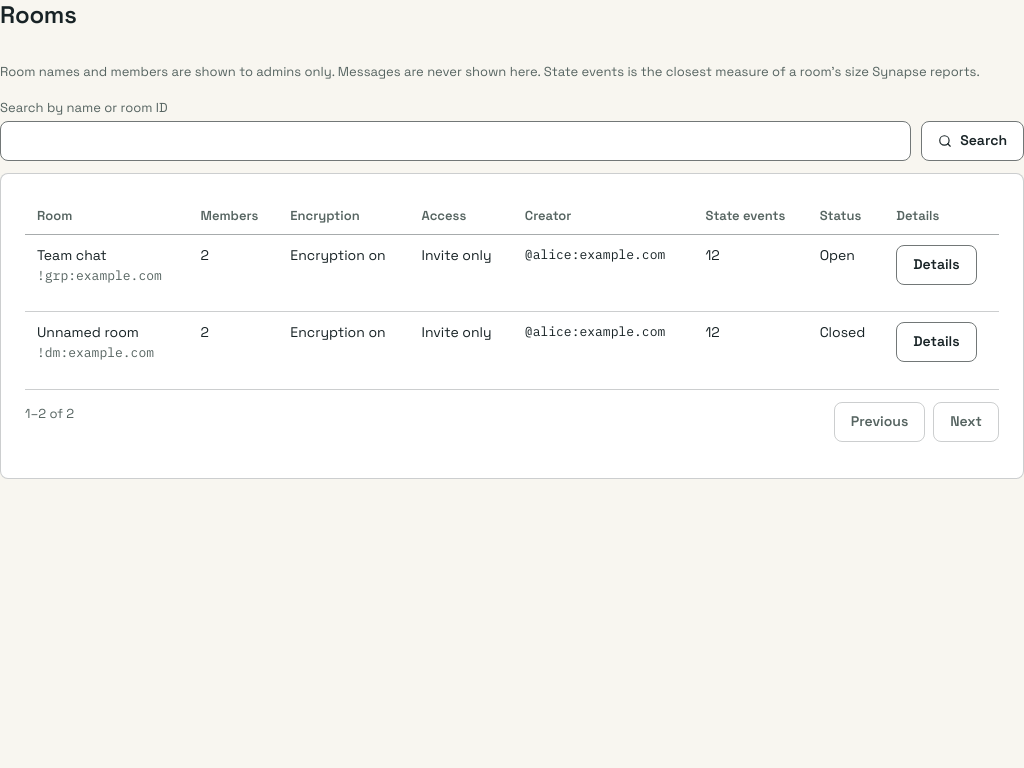
it: Rooms › reports a failed job
This screenshot has width=1024, height=768.
Click the button with aria-label "Details for Team chat": (936, 264) [896,244,977,284]
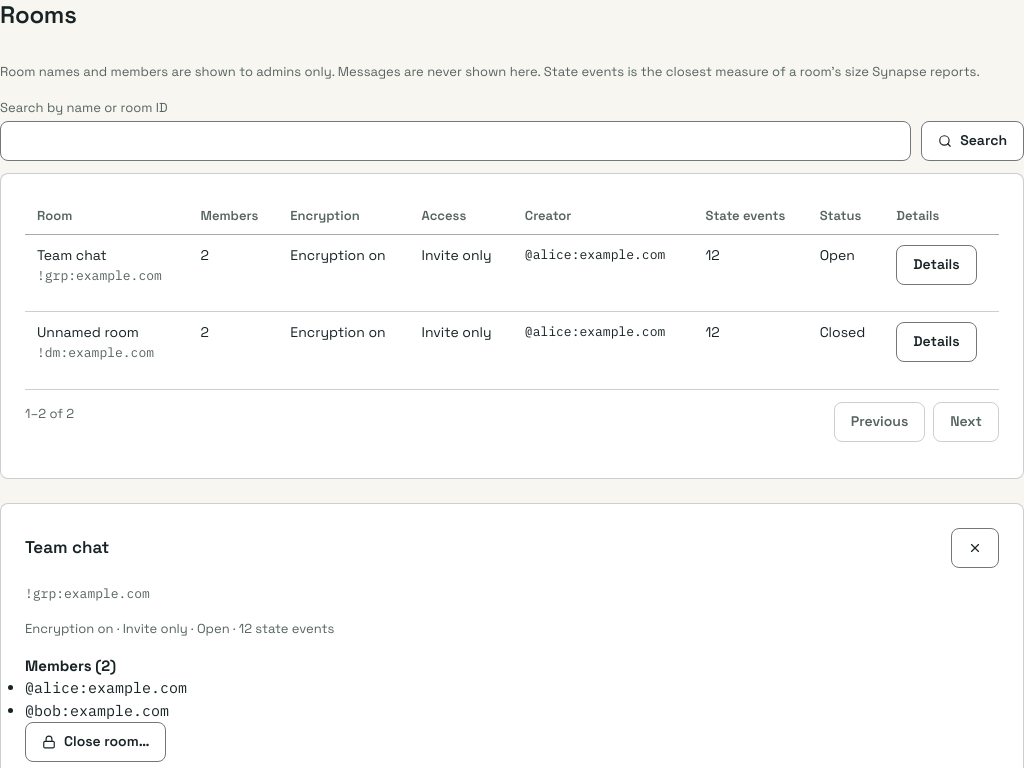
Expected: the list named "Members" is shown, [25,678,187,720]
Click the button "Close room…": (96, 742) [25,722,166,762]
(page scrolled)
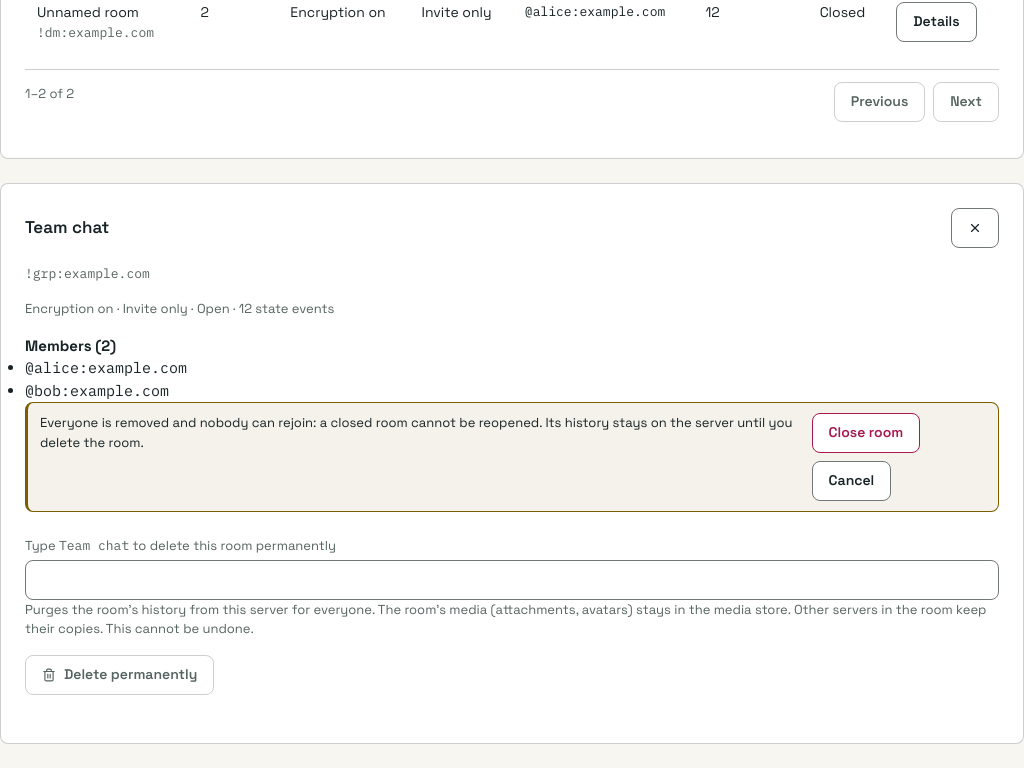
Click the button "Close room": (866, 433) [812,413,920,453]
(page scrolled)
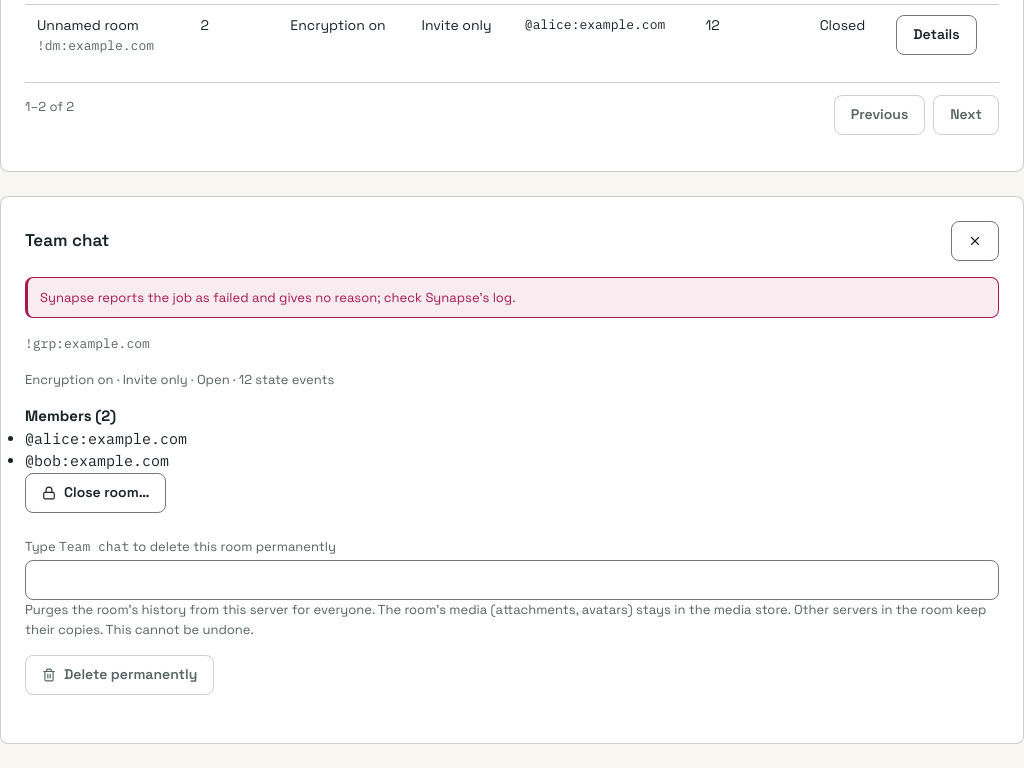
Expected: the message shows "Synapse reports the job as failed", [40,288,516,306]
